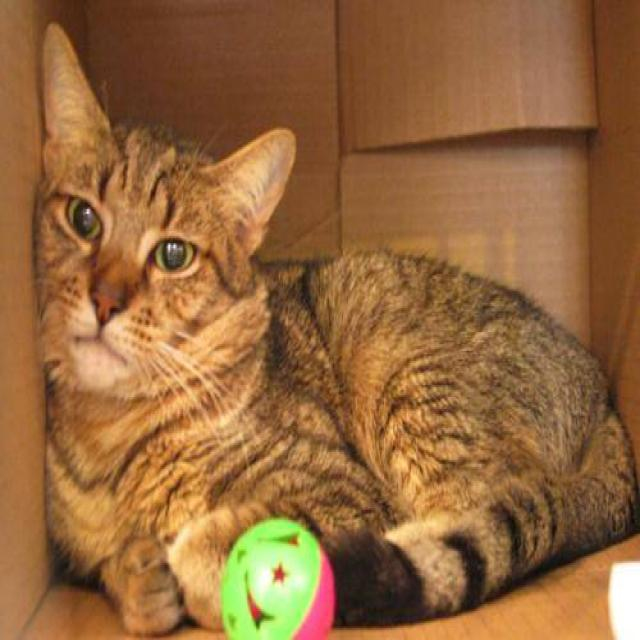cat: (31, 19, 638, 635)
